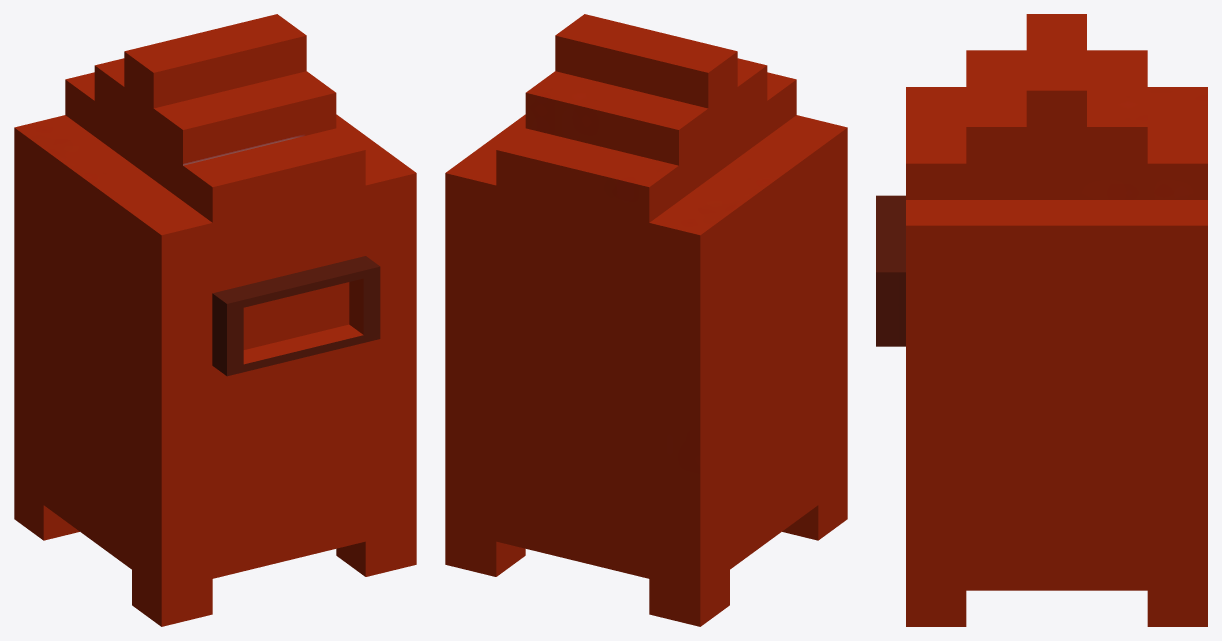
The model's file is Buzon_rojo.FBX.
3 views of the same model, side by side, from view 1: azimuth 30°, elevation 25°; view 2: azimuth 150°, elevation 25°; view 3: azimuth 270°, elevation 25° (orthographic). The views are drawn at different scales.
Parts seen in each view (by area): view 1: buzonrojo; view 2: buzonrojo; view 3: buzonrojo.
Part boxes in pixels (left/top/right/bottom): buzonrojo: left=14, top=14, right=416, bottom=626; buzonrojo: left=445, top=14, right=847, bottom=626; buzonrojo: left=876, top=14, right=1207, bottom=626.
Size of the model in its own units: 0.5299 by 0.9891 by 0.5822.
